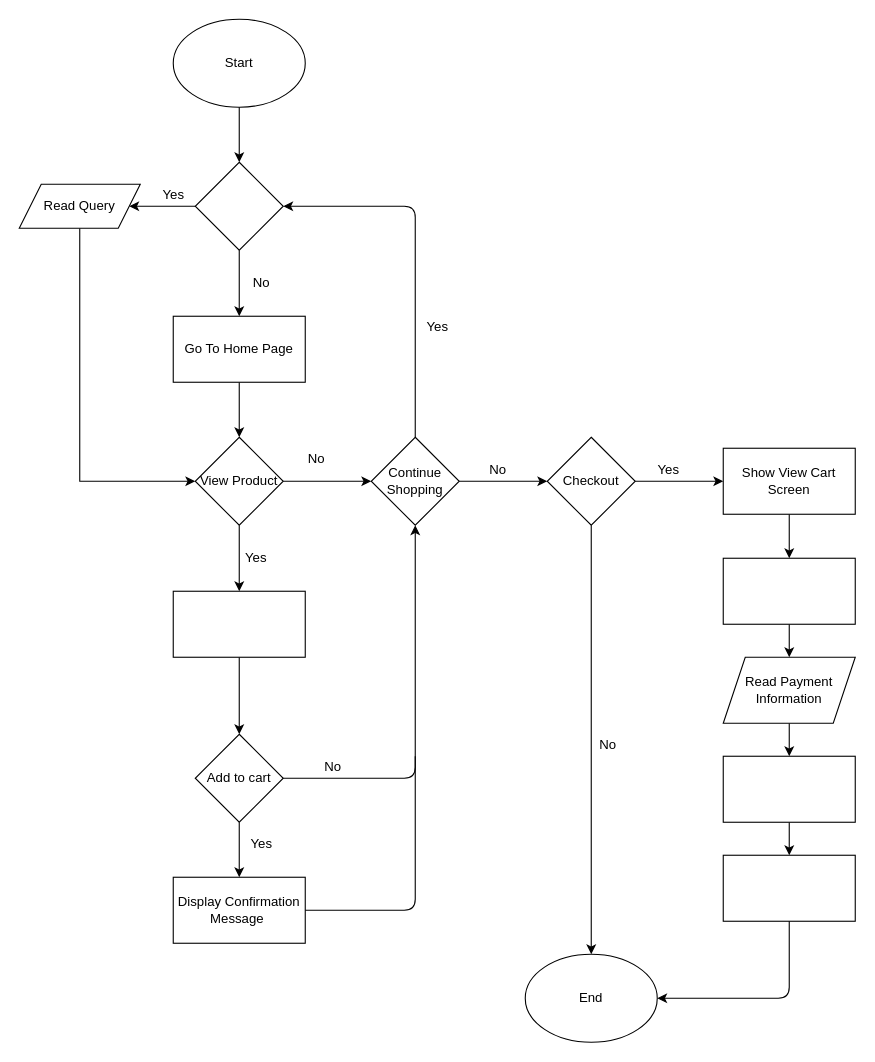
Some shapes in this 875 by 1062 pixel diagram are drawn without their labels. The shapes that lost their labels are listed below. From the top down, each one's centre as x and y in pixels, then its label:
At (238,205): "Search".
At (788,590): "Show View Payment Screen".
At (238,623): "Open Product Webpage".
At (788,788): "Show Order Confirmation on Screen".
At (788,887): "Send Confirmation Email".
